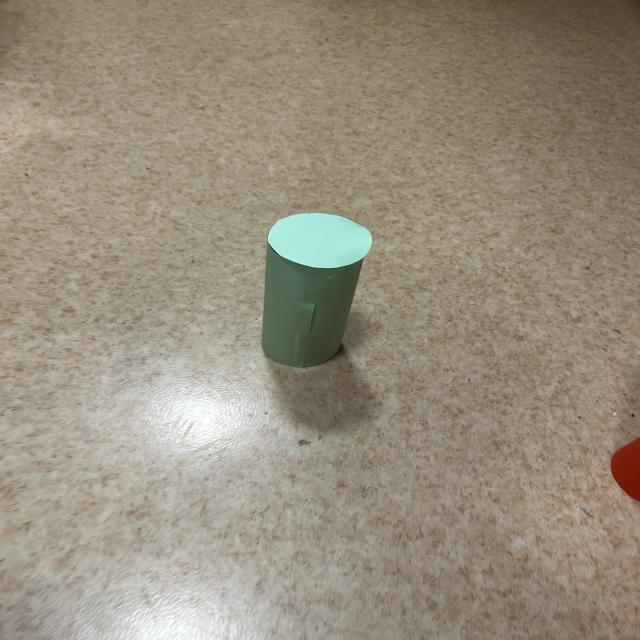meta: (261, 213, 371, 368)
